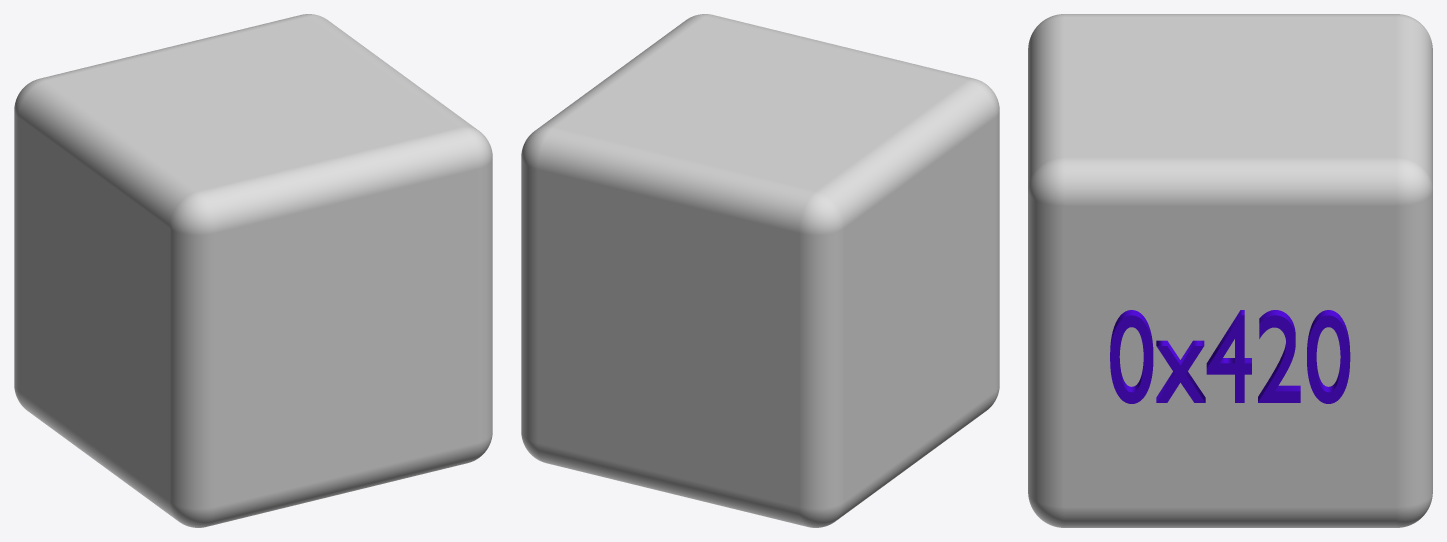
File: Instr42.fbx
3 renders of one model, left to right at view 1: azimuth 30°, elevation 25°; view 2: azimuth 150°, elevation 25°; view 3: azimuth 270°, elevation 25°, orthographic. The views are drawn at different scales.
Visible parts, largest first — view 1: Cube; view 2: Cube; view 3: Cube, Text.
Part boxes in pixels (bbox=[...]): Cube: bbox=[14, 14, 492, 527]; Cube: bbox=[521, 14, 999, 527]; Cube: bbox=[1028, 14, 1432, 527]; Text: bbox=[1110, 310, 1350, 403].
Bounding box in the file's own units: 69.29 × 67.15 × 67.15.
